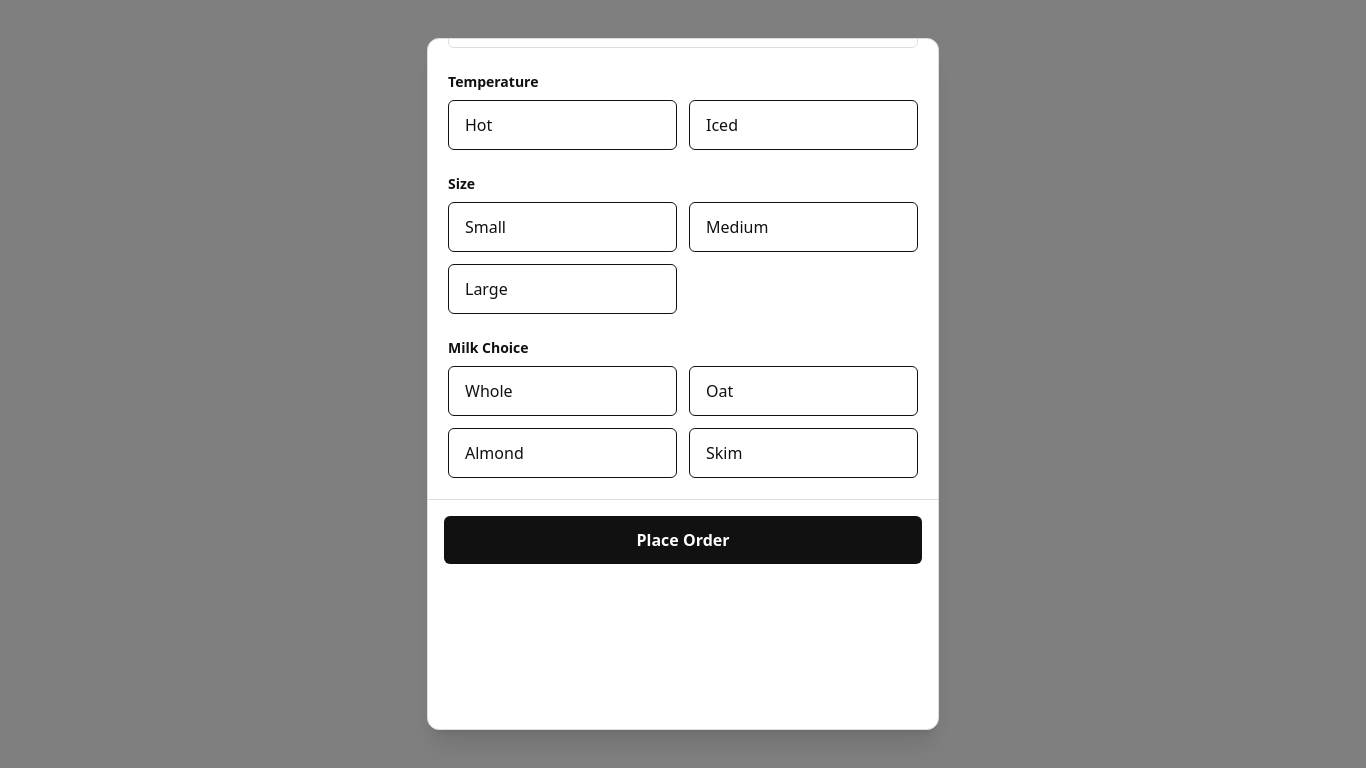
CustomizationDrawer › Availability (FR-5) › clears a selected milk when it becomes unavailable
Later steps or results of the test are not shown.
(page scrolled)
What coordinates should you click on to do the following:
click the radio button labelled "Oat"
I would click on:
 (804, 391)
Its box is [689, 366, 918, 416].
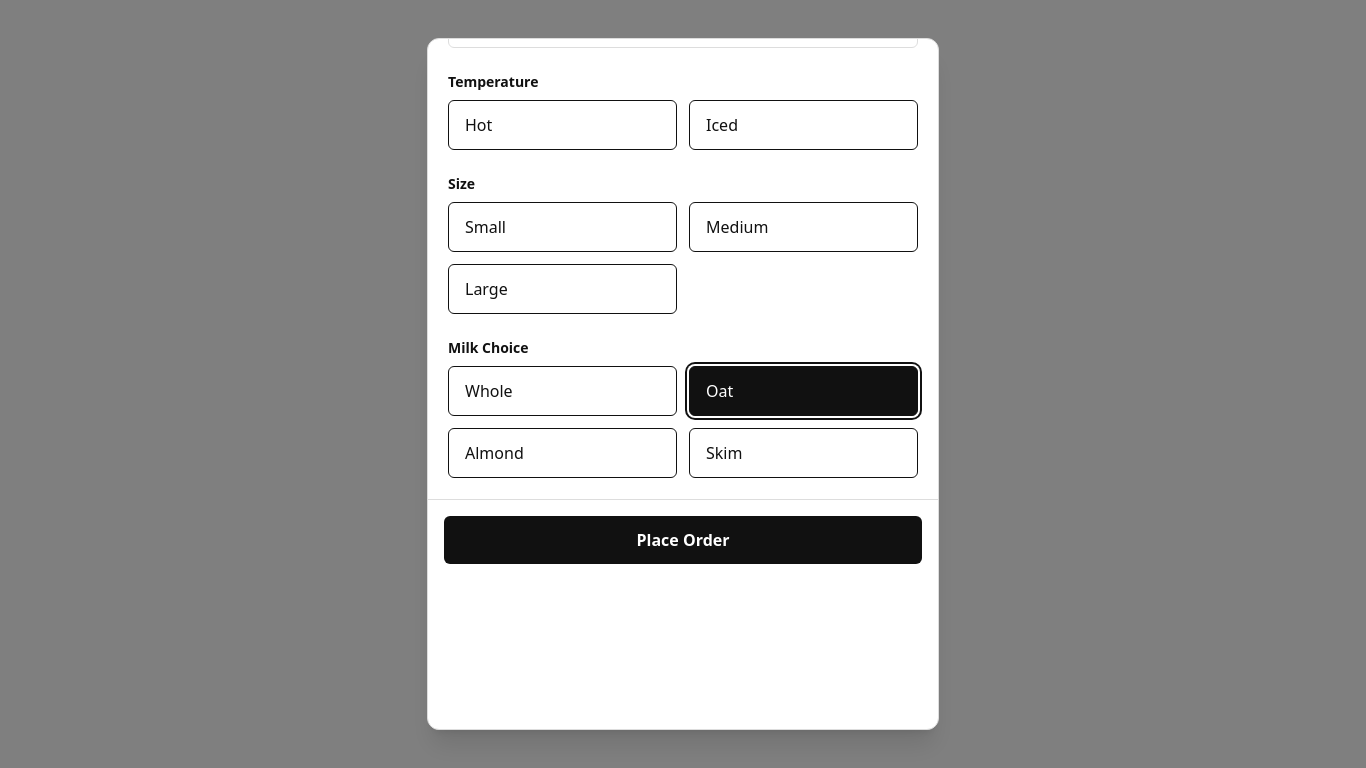
expect the radio button labelled "Oat" is checked: met, box [689, 366, 918, 416]
